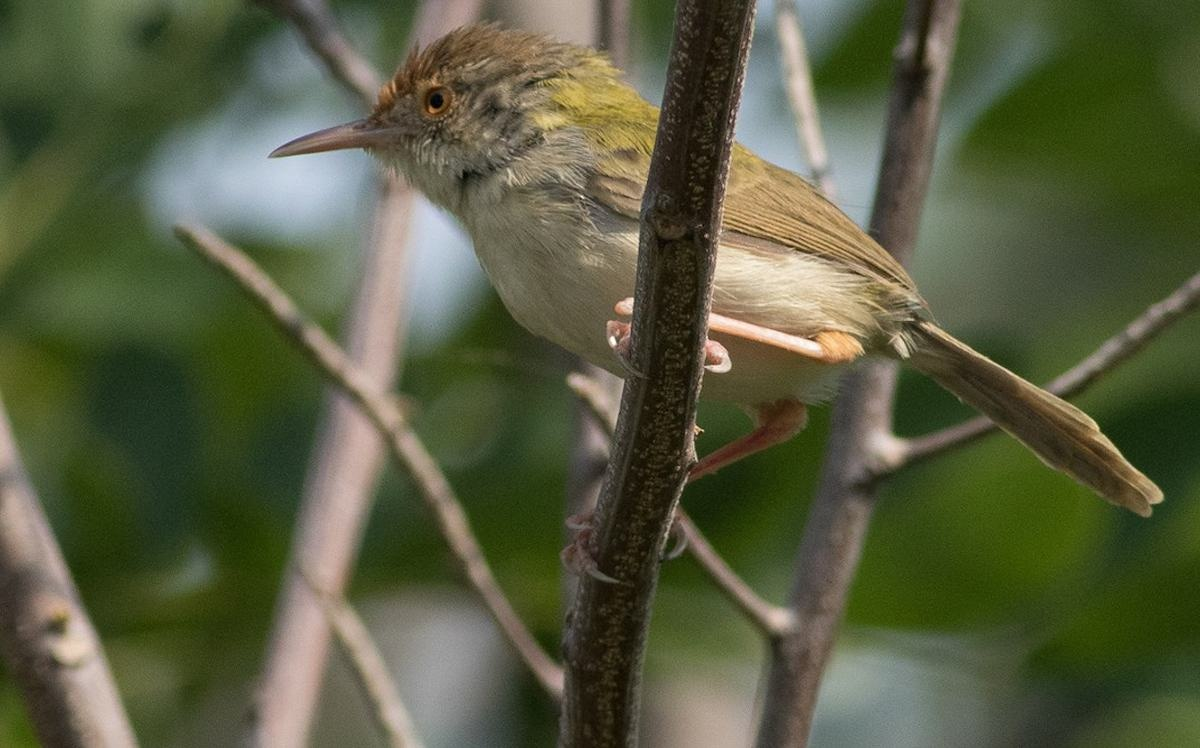tailorbird: (266, 14, 1138, 526)
